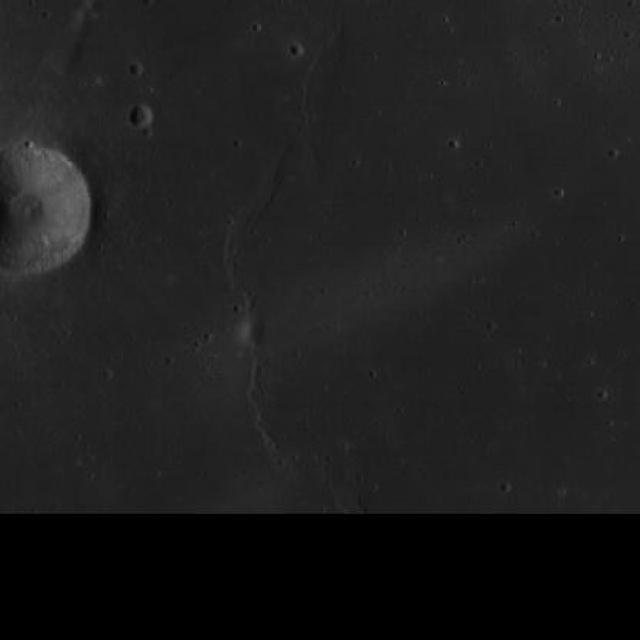crater: (0, 142, 91, 272), (126, 101, 152, 128)
